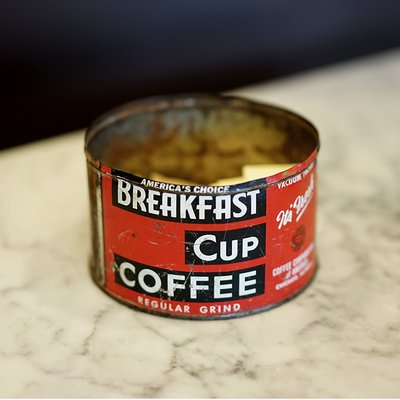pizza: (83, 90, 321, 329)
